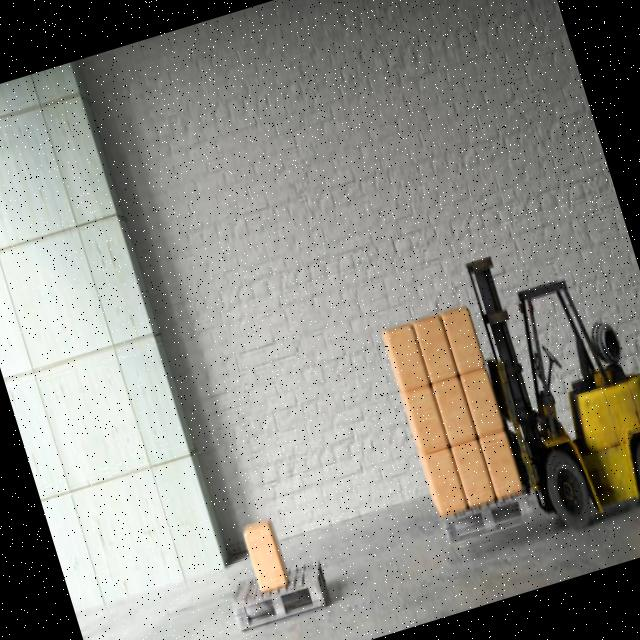Wooden-Pallets: (434, 481, 534, 548), (228, 574, 327, 634)
